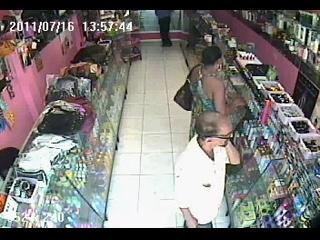Normal: (175, 112, 242, 228), (188, 46, 228, 142), (173, 64, 202, 112), (155, 10, 174, 48), (121, 45, 142, 64)
